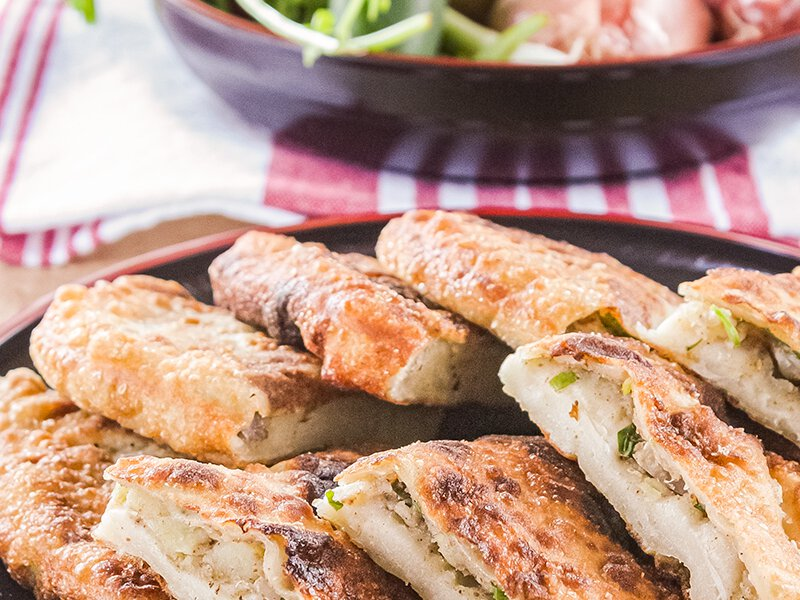aloo_paratha: (1, 211, 795, 590)
